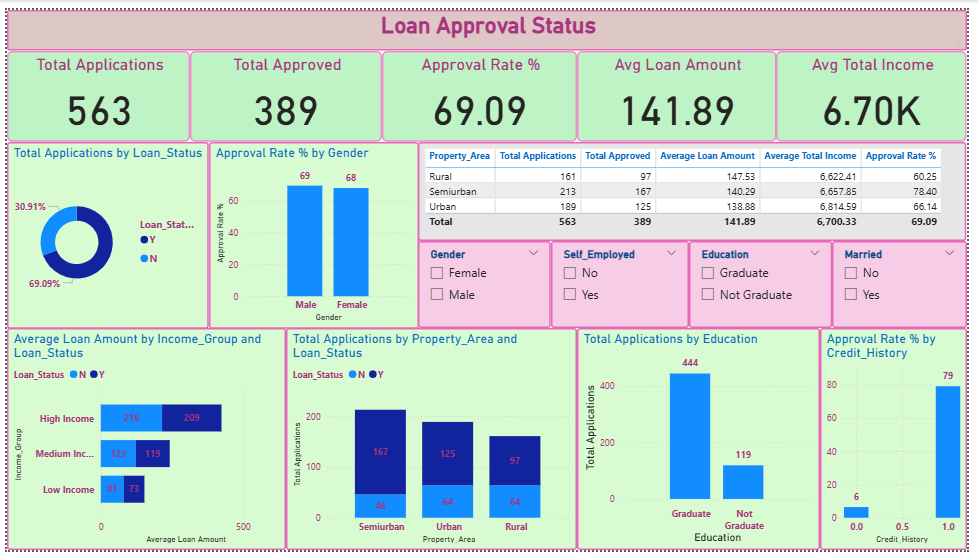

The dashboard page shown, as its layout file describes it:
{"tool":"powerbi","page":{"name":"Loan Status","canvas":[1280,720],"ordinal":0},"visuals":[{"type":"textbox","box":[10,0,280,280],"z":0},{"type":"textbox","title":"Loan Approval Status","box":[0,0,1280,54.3],"z":1000},{"type":"card","title":"Total Applications","fields":{"Values":["l_approved.Total Applications"]},"box":[0,54.3,244.3,121.4],"z":2000},{"type":"card","title":"Total Approved","fields":{"Values":["l_approved.Total Approved"]},"box":[244.3,54.3,255.7,121.4],"z":3000},{"type":"card","title":"Approval Rate %","fields":{"Values":["l_approved.Approval Rate %"]},"box":[500,54.3,260,121.4],"z":4000},{"type":"card","title":"Avg Loan Amount","fields":{"Values":["l_approved.Average Loan Amount"]},"box":[760,54.3,265.7,121.4],"z":5000},{"type":"card","title":"Avg Total Income","fields":{"Values":["l_approved.Average Total Income"]},"box":[1025.7,54.3,254.3,121.4],"z":6000},{"type":"donutChart","fields":{"Category":["l_approved.Loan_Status"],"Y":["l_approved.Total Applications"]},"box":[0,175.7,268.9,248.6],"z":7000},{"type":"columnChart","fields":{"Category":["l_approved.Property_Area"],"Y":["l_approved.Total Applications"],"Series":["l_approved.Loan_Status"]},"box":[371.6,424.3,387.8,295.9],"z":8000},{"type":"barChart","fields":{"Category":["l_approved.Income_Group"],"Y":["l_approved.Average Loan Amount"],"Series":["l_approved.Loan_Status"]},"box":[0,424.3,371.6,295.9],"z":9000},{"type":"tableEx","fields":{"Values":["l_approved.Property_Area","l_approved.Total Applications","l_approved.Total Approved","l_approved.Average Loan Amount","l_approved.Average Total Income","l_approved.Approval Rate %"]},"box":[548.6,175.7,731.1,132.4],"z":10000},{"type":"columnChart","fields":{"Category":["l_approved.Education"],"Y":["l_approved.Total Applications"]},"box":[759.5,424.3,324.3,295.9],"z":11000},{"type":"columnChart","fields":{"Y":["l_approved.Approval Rate %"],"Category":["l_approved.Gender"]},"box":[268.9,175.7,279.7,248.6],"z":12000},{"type":"slicer","fields":{"Values":["l_approved.Gender"]},"box":[548.6,308.1,177,116.2],"z":13000},{"type":"slicer","fields":{"Values":["l_approved.Self_Employed"]},"box":[725.7,308.1,183.8,116.2],"z":14000},{"type":"slicer","fields":{"Values":["l_approved.Education"]},"box":[909.5,308.1,190.5,116.2],"z":15000},{"type":"slicer","fields":{"Values":["l_approved.Married"]},"box":[1100,308.1,179.7,116.2],"z":16000},{"type":"columnChart","fields":{"Category":["l_approved.Credit_History"],"Y":["l_approved.Approval Rate %"]},"box":[1083.8,424.3,195.9,295.9],"z":16001}]}

Visuals, with their boxes in screenshot pixels (x1, y1, x2, y2), scaled from the page's 1280x720 canvas onto the 978x557 screenshot:
textbox: bbox=(8, 0, 222, 217)
"Loan Approval Status" textbox: bbox=(0, 0, 977, 42)
"Total Applications" card: bbox=(0, 42, 187, 136)
"Total Approved" card: bbox=(187, 42, 382, 136)
"Approval Rate %" card: bbox=(382, 42, 581, 136)
"Avg Loan Amount" card: bbox=(581, 42, 784, 136)
"Avg Total Income" card: bbox=(784, 42, 977, 136)
donutChart - l_approved.Loan_Status x l_approved.Total Applications: bbox=(0, 136, 205, 328)
columnChart - l_approved.Property_Area x l_approved.Total Applications: bbox=(284, 328, 580, 556)
barChart - l_approved.Income_Group x l_approved.Average Loan Amount: bbox=(0, 328, 284, 556)
tableEx - l_approved.Property_Area x l_approved.Total Applications: bbox=(419, 136, 977, 238)
columnChart - l_approved.Education x l_approved.Total Applications: bbox=(580, 328, 828, 556)
columnChart - l_approved.Approval Rate % x l_approved.Gender: bbox=(205, 136, 419, 328)
slicer - l_approved.Gender: bbox=(419, 238, 554, 328)
slicer - l_approved.Self_Employed: bbox=(554, 238, 695, 328)
slicer - l_approved.Education: bbox=(695, 238, 840, 328)
slicer - l_approved.Married: bbox=(840, 238, 977, 328)
columnChart - l_approved.Credit_History x l_approved.Approval Rate %: bbox=(828, 328, 977, 556)
